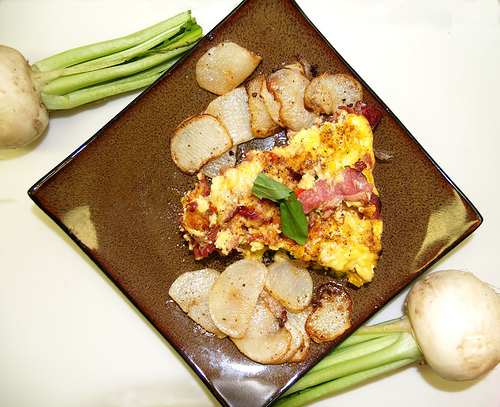turnip: (403, 266, 498, 378), (0, 44, 48, 148)
